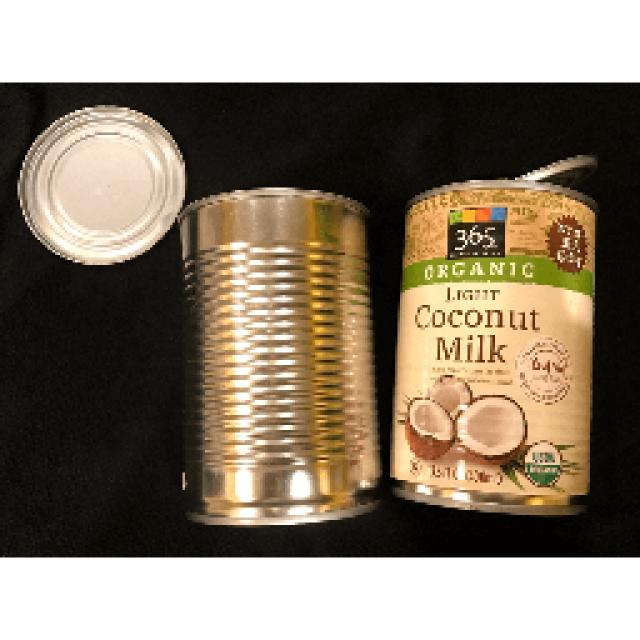alumunium: (18, 105, 378, 522), (390, 155, 592, 512)
